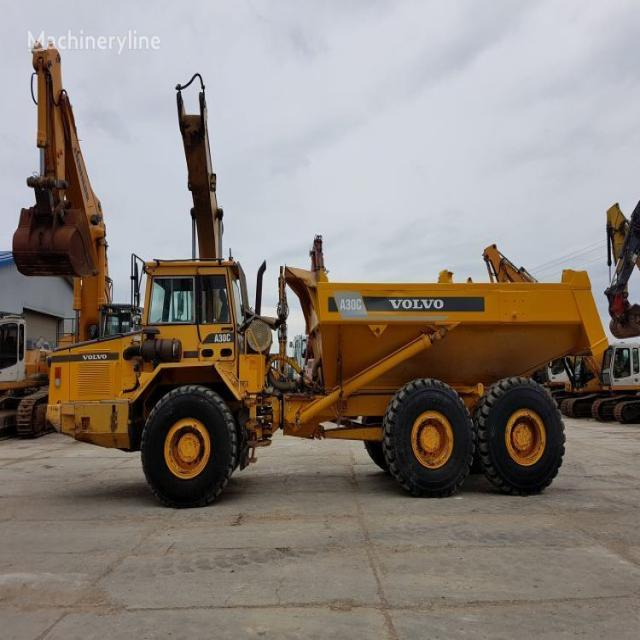dump_truck: (48, 250, 614, 512)
